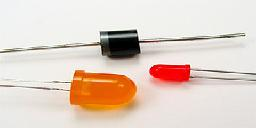LED: (4, 69, 140, 108), (145, 62, 256, 85)
